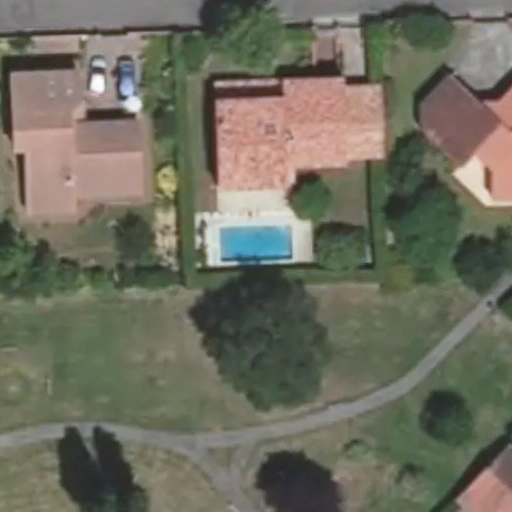pool: (218, 224, 293, 258)
